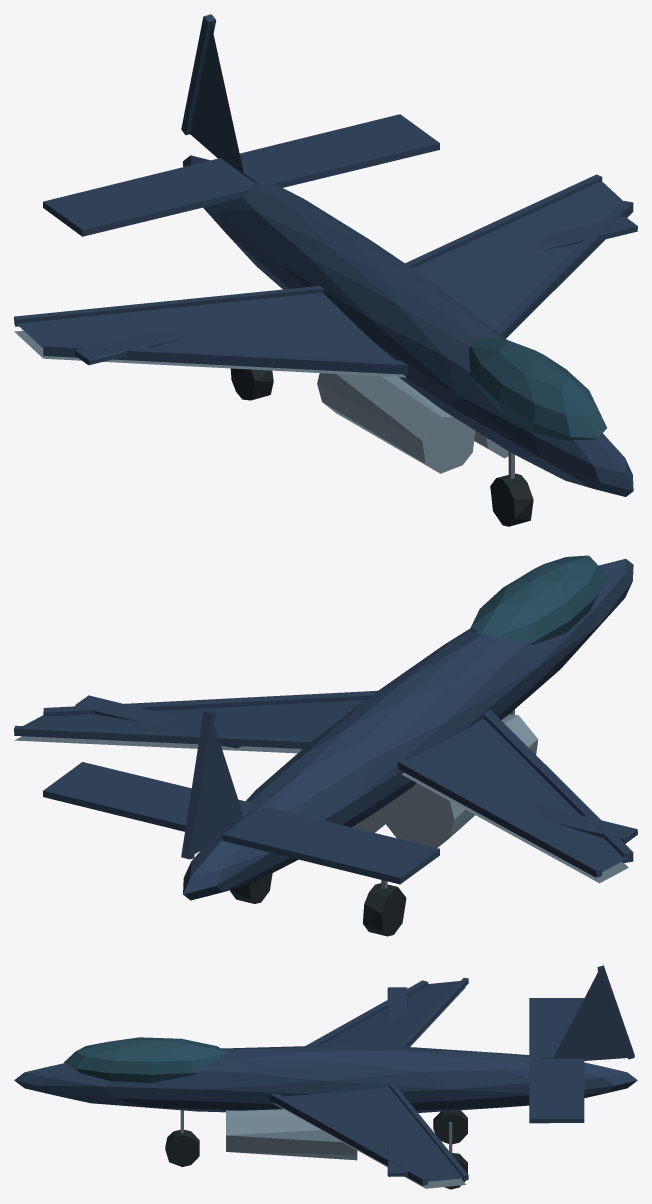
File: aircraft-fighter-jet.lod1.glb
The picture shows the model from 3 angles, top to bottom: view 1: azimuth 30°, elevation 25°; view 2: azimuth 150°, elevation 25°; view 3: azimuth 270°, elevation 25°; orthographic projection. The views are drawn at different scales.
Visible parts, largest first — view 1: aircraft-fighter-jet__body, aircraft-fighter-jet__gear_0, aircraft-fighter-jet__aileron_-1, aircraft-fighter-jet__aileron_1, aircraft-fighter-jet__gear_-0p85; view 2: aircraft-fighter-jet__body, aircraft-fighter-jet__gear_-0p85, aircraft-fighter-jet__aileron_-1, aircraft-fighter-jet__aileron_1, aircraft-fighter-jet__gear_0p85; view 3: aircraft-fighter-jet__body, aircraft-fighter-jet__gear_0, aircraft-fighter-jet__gear_-0p85, aircraft-fighter-jet__aileron_1, aircraft-fighter-jet__aileron_-1.
Boxes of the visible parts, bbox=[...] form: aircraft-fighter-jet__body: bbox=[14, 14, 633, 496]; aircraft-fighter-jet__gear_0: bbox=[490, 451, 533, 526]; aircraft-fighter-jet__aileron_-1: bbox=[75, 332, 193, 365]; aircraft-fighter-jet__aileron_1: bbox=[532, 216, 637, 251]; aircraft-fighter-jet__gear_-0p85: bbox=[230, 368, 273, 400]; aircraft-fighter-jet__body: bbox=[14, 555, 633, 900]; aircraft-fighter-jet__gear_-0p85: bbox=[363, 880, 406, 936]; aircraft-fighter-jet__aileron_-1: bbox=[532, 803, 637, 843]; aircraft-fighter-jet__aileron_1: bbox=[75, 695, 240, 748]; aircraft-fighter-jet__gear_0p85: bbox=[230, 873, 272, 903]; aircraft-fighter-jet__body: bbox=[14, 965, 637, 1188]; aircraft-fighter-jet__gear_0: bbox=[165, 1110, 199, 1166]; aircraft-fighter-jet__gear_-0p85: bbox=[433, 1110, 467, 1144]; aircraft-fighter-jet__aileron_1: bbox=[387, 1137, 407, 1176]; aircraft-fighter-jet__aileron_-1: bbox=[387, 987, 407, 1022].
Bounding box in the file's own units: 7.56 × 3.49 × 10.
